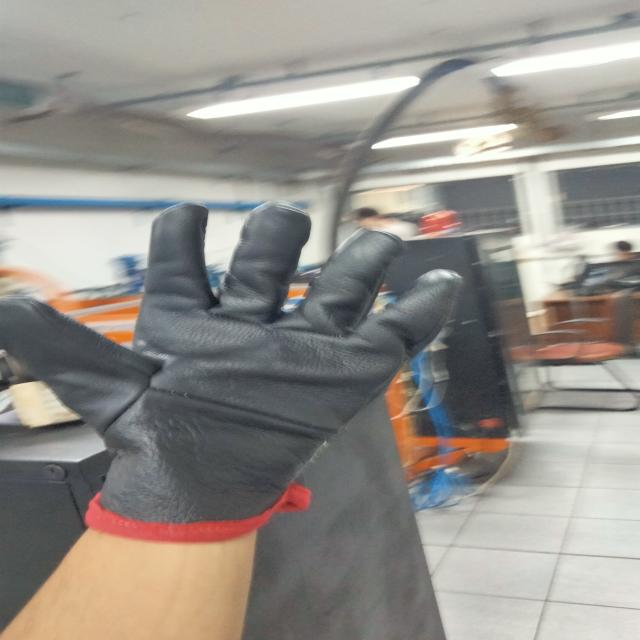Gloves: (0, 198, 466, 536)
